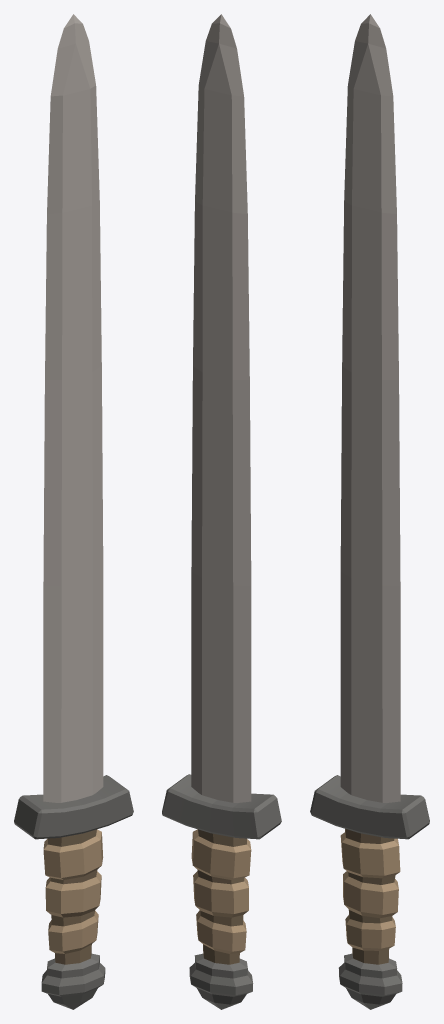
The model's file is SM_pwe_slavic_sword_02.fbx.
3 views of the same model, side by side, from view 1: azimuth 30°, elevation 25°; view 2: azimuth 150°, elevation 25°; view 3: azimuth 330°, elevation 25° (orthographic).
Visible parts, largest first — view 1: SM_pwe_slavic_sword_02; view 2: SM_pwe_slavic_sword_02; view 3: SM_pwe_slavic_sword_02.
Boxes of the visible parts, box(x1,y1,x2,y2) form: SM_pwe_slavic_sword_02: box(14, 14, 133, 1009); SM_pwe_slavic_sword_02: box(162, 14, 281, 1009); SM_pwe_slavic_sword_02: box(310, 14, 429, 1009).
Size of the model in its own units: 9.43 by 89.21 by 3.76.
